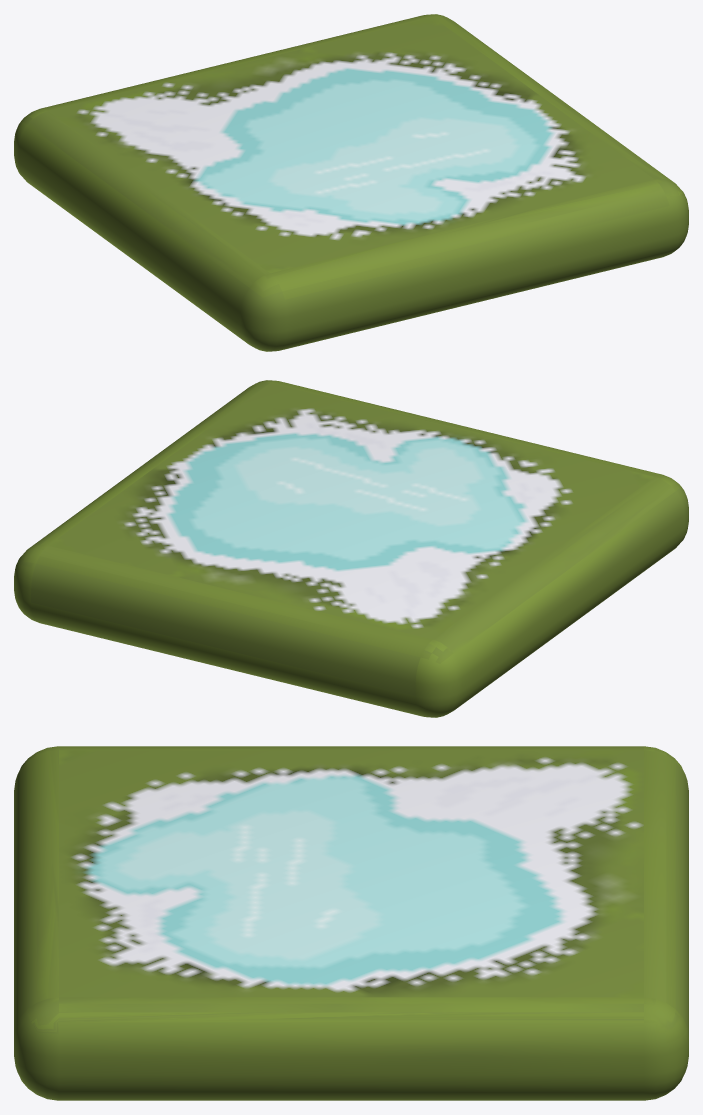
The model's file is tile_verglas.fbx.
3 views of the same model, one above another, from view 1: azimuth 30°, elevation 25°; view 2: azimuth 150°, elevation 25°; view 3: azimuth 270°, elevation 25° (orthographic). The views are drawn at different scales.
Visible parts, largest first — view 1: Cube; view 2: Cube; view 3: Cube.
Boxes of the visible parts, bbox=[...] form: Cube: bbox=[14, 14, 688, 351]; Cube: bbox=[14, 380, 688, 717]; Cube: bbox=[14, 746, 688, 1100].
Size of the model in its own units: 200 by 32.47 by 200.
